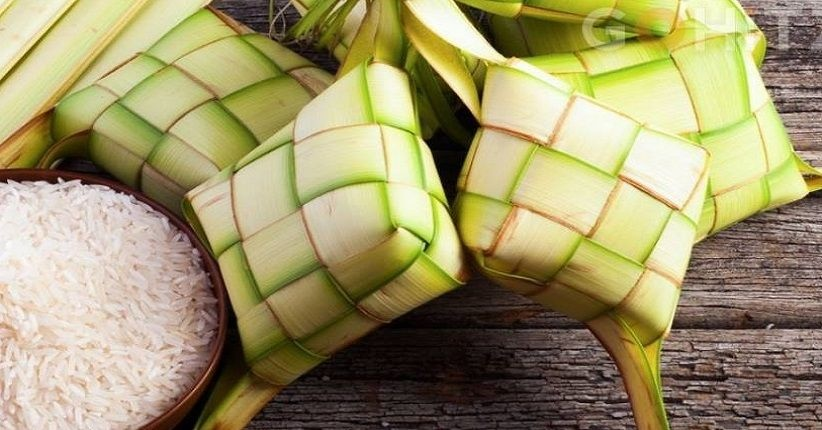ketupat: (183, 58, 462, 384), (454, 58, 711, 348)
